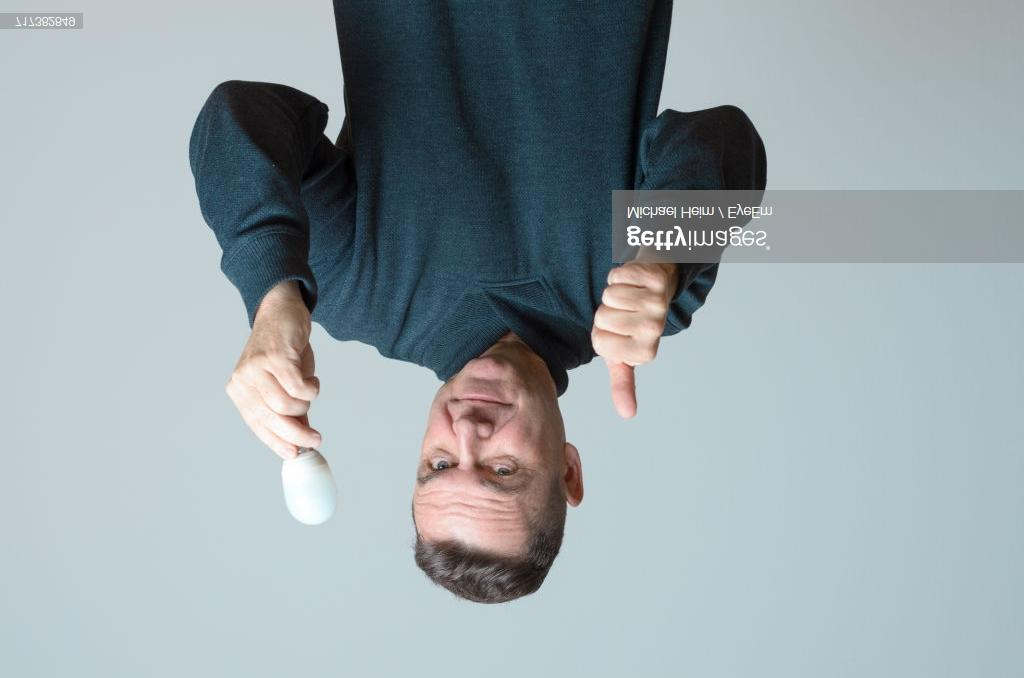thumbsdown: (589, 263, 670, 420)
